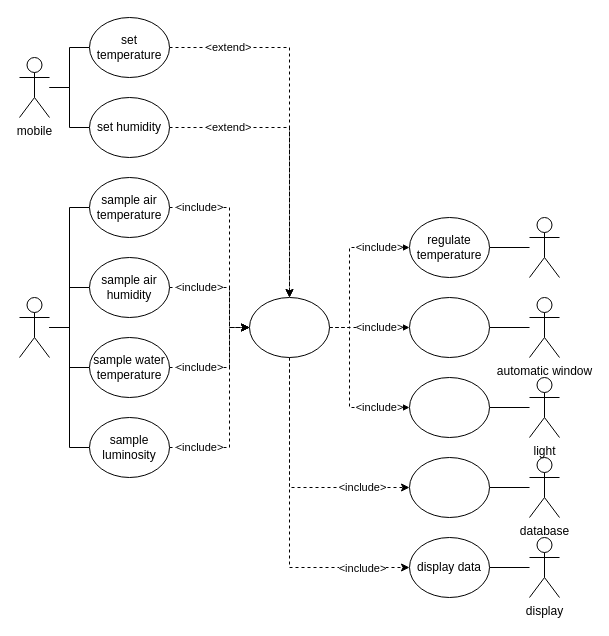
This 609x636 diagram has some shape labels left out. The centre of each missing label's shape, as x and y in pixels:
heater: the point at 544,247
process data: the point at 289,327
regulate humidity: the point at 449,327
regulate luminosity: the point at 449,407
send data: the point at 449,487
timer: the point at 34,327
